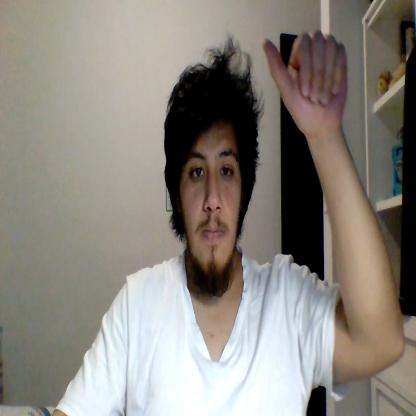A: (260, 28, 348, 135)
